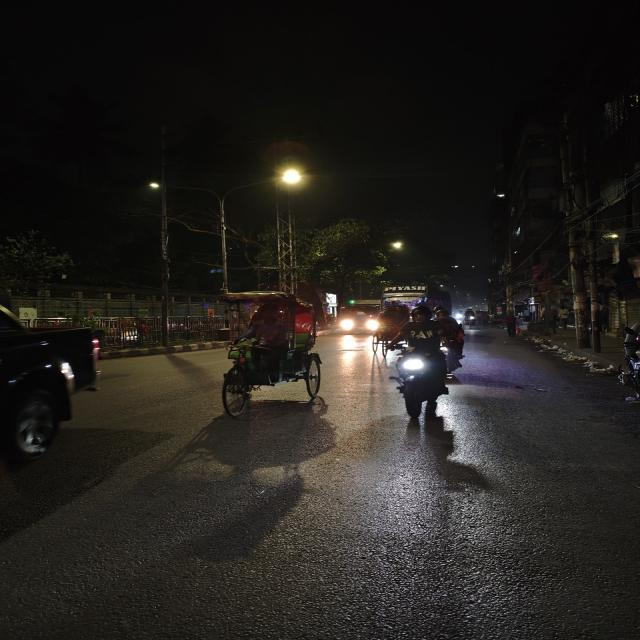motorcycle: (378, 303, 470, 432)
pedestrian: (496, 308, 520, 342)
rickshaw: (198, 289, 332, 425), (367, 299, 413, 356)
truck: (337, 296, 377, 336)
